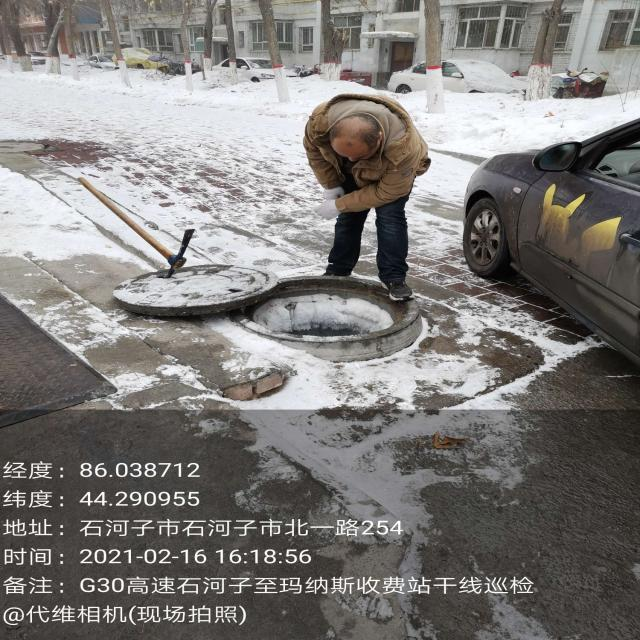manhole: (238, 276, 422, 361)
